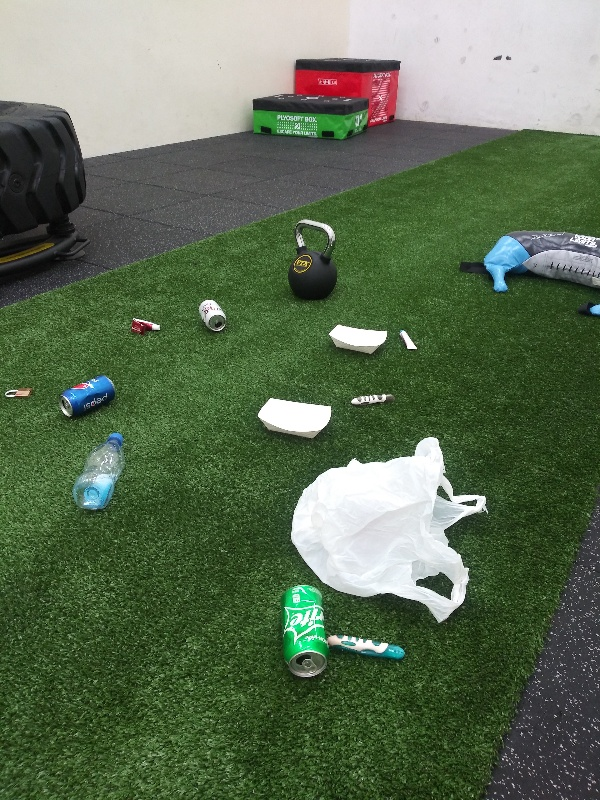bottle: (70, 428, 128, 512)
can: (277, 580, 329, 678), (53, 376, 118, 420), (191, 298, 228, 336)
plate: (253, 396, 334, 443), (323, 320, 391, 357)
